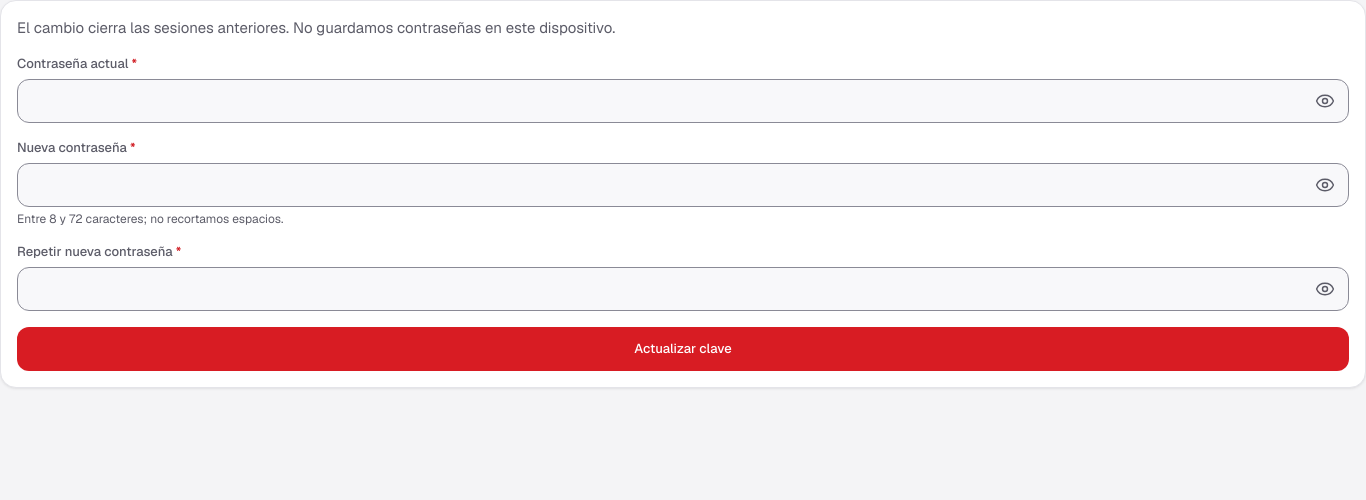
Test case: Cambio de clave visible › no envía si la confirmación difiere
The image size is (1366, 500).
Step 1. Type "Current fixture 1" into the password field labelled "Contraseña actual *" → (683, 101), box 17,79 -> 1349,123
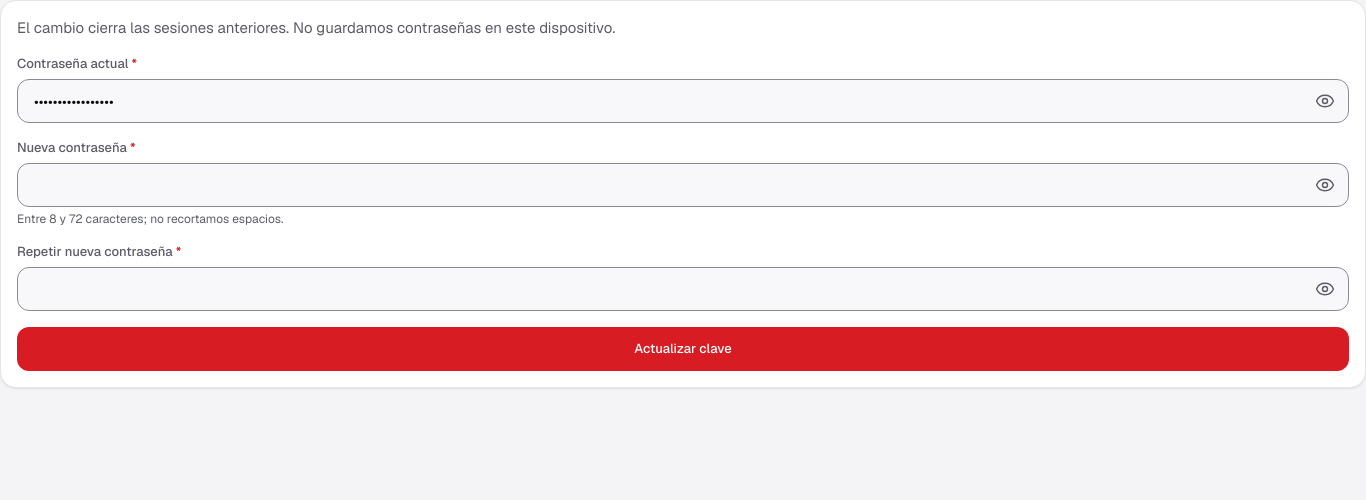
Step 2. Type "Replacement fixture 2" into the password field labelled "Nueva contraseña *" → (683, 185), box 17,163 -> 1349,207
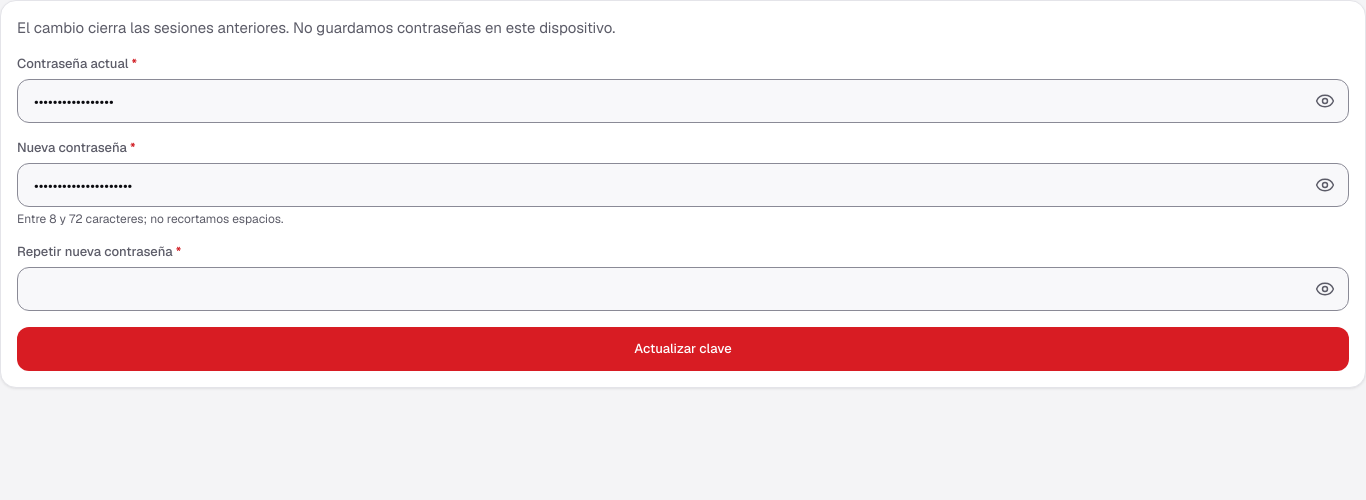
Step 3. Type "different" into the password field labelled "Repetir nueva contraseña *" → (683, 289), box 17,267 -> 1349,311
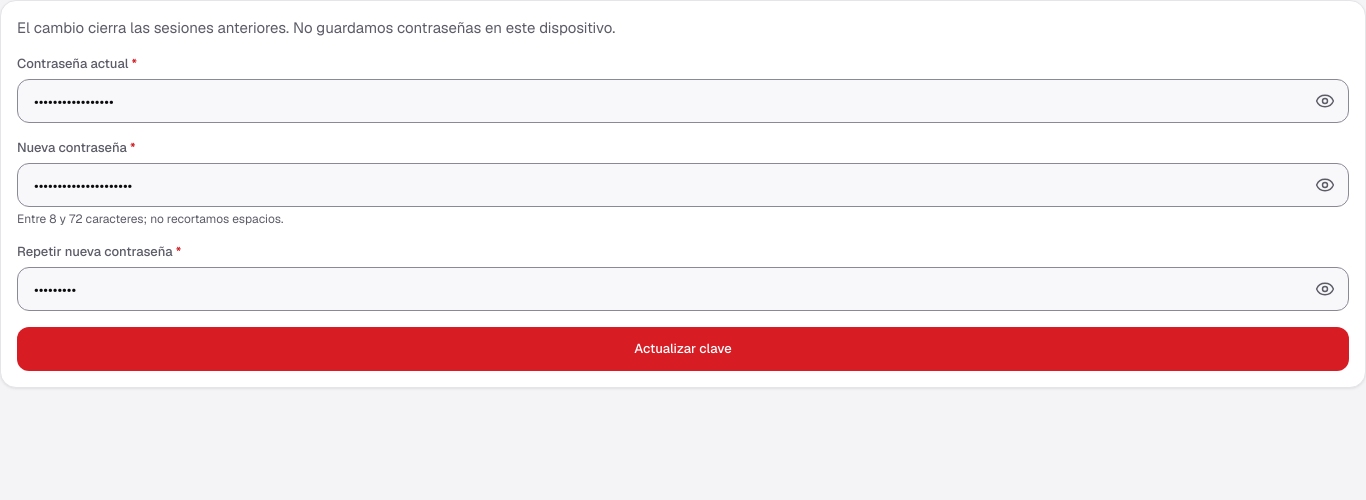
Step 4. Click the button "Actualizar clave" → (683, 349), box 17,327 -> 1349,371
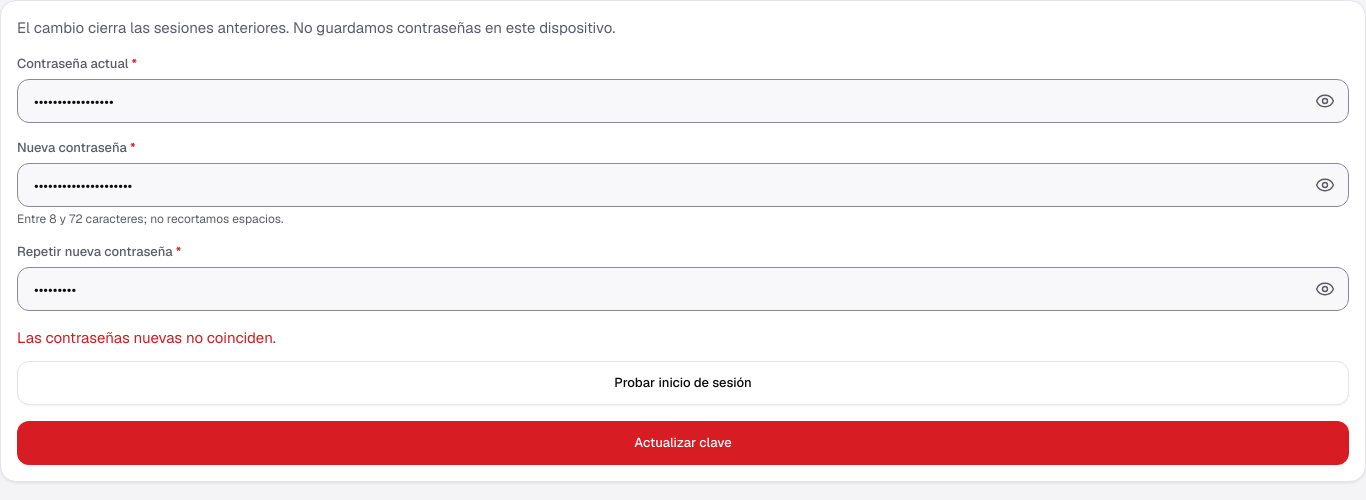
Expected: the message shows "no coinciden", 17,328 -> 276,347
